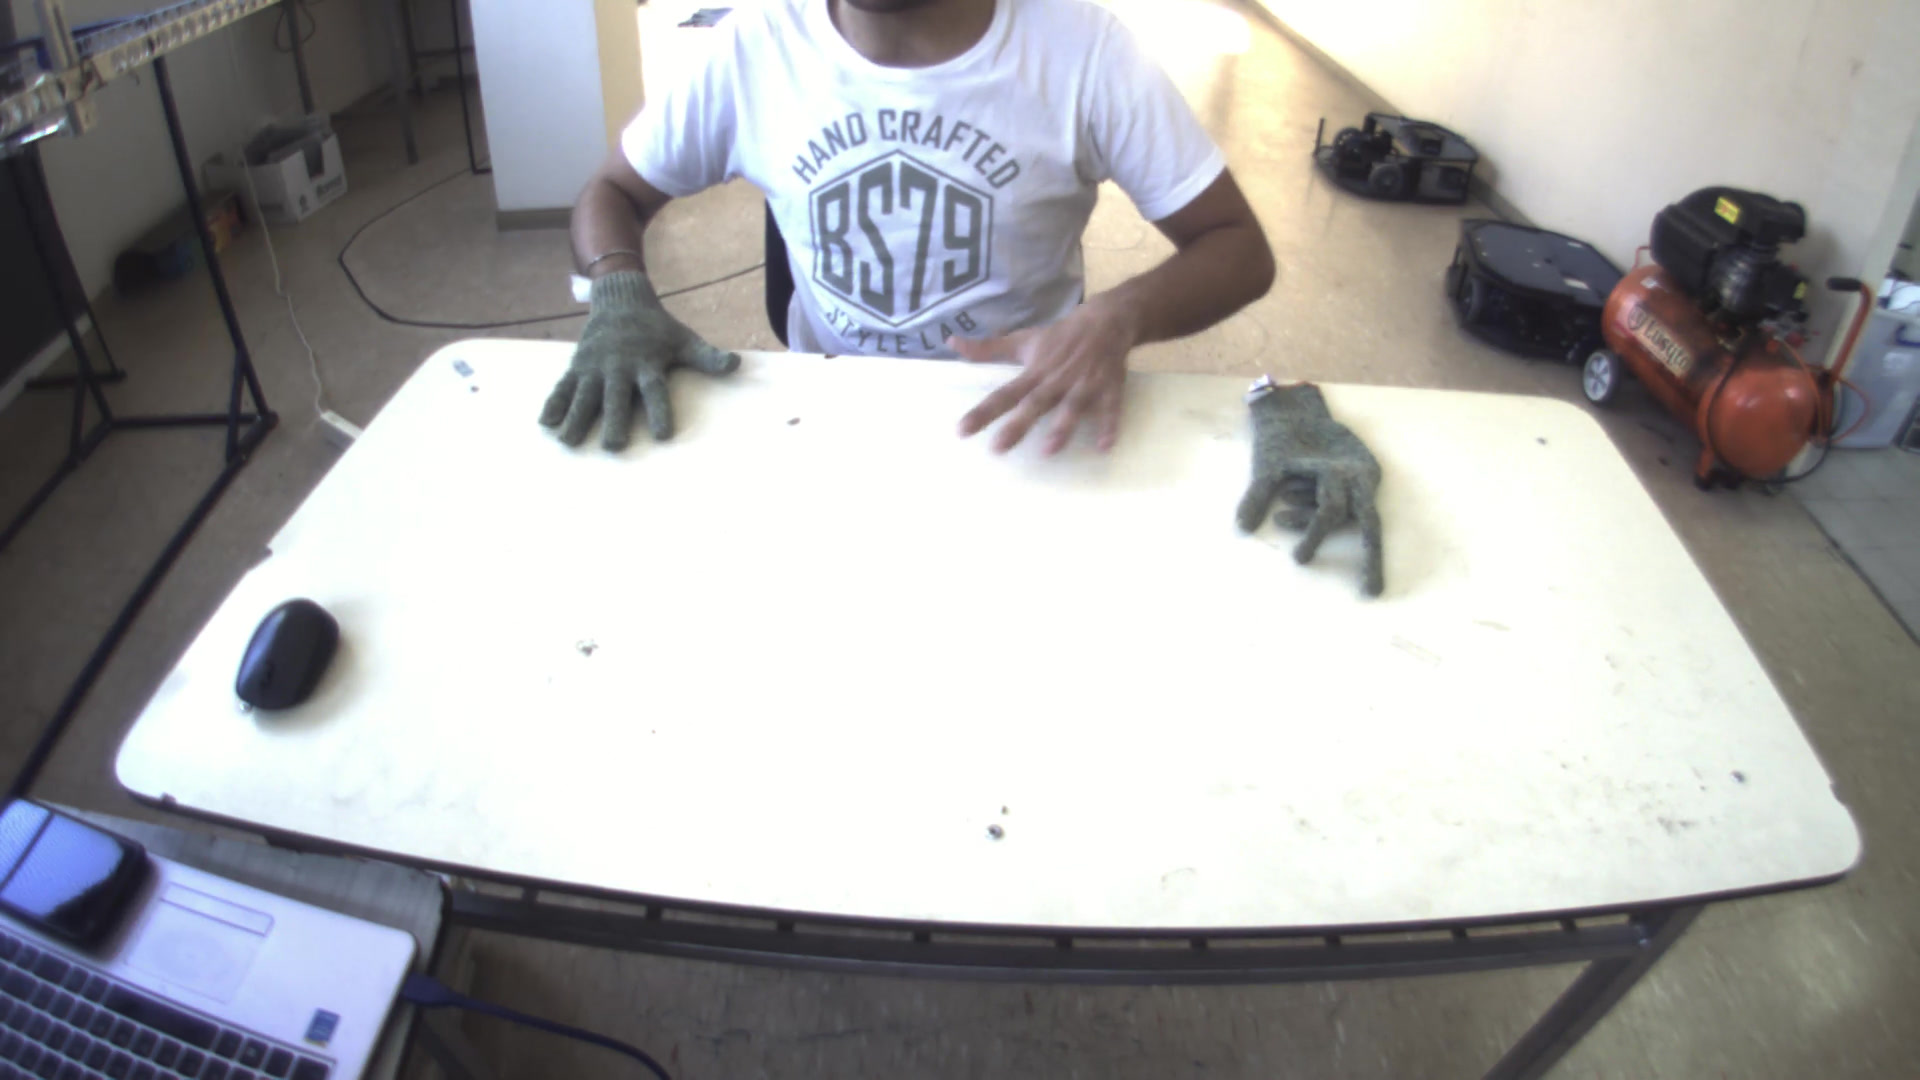hand: (526, 253, 742, 458), (940, 291, 1145, 465)
